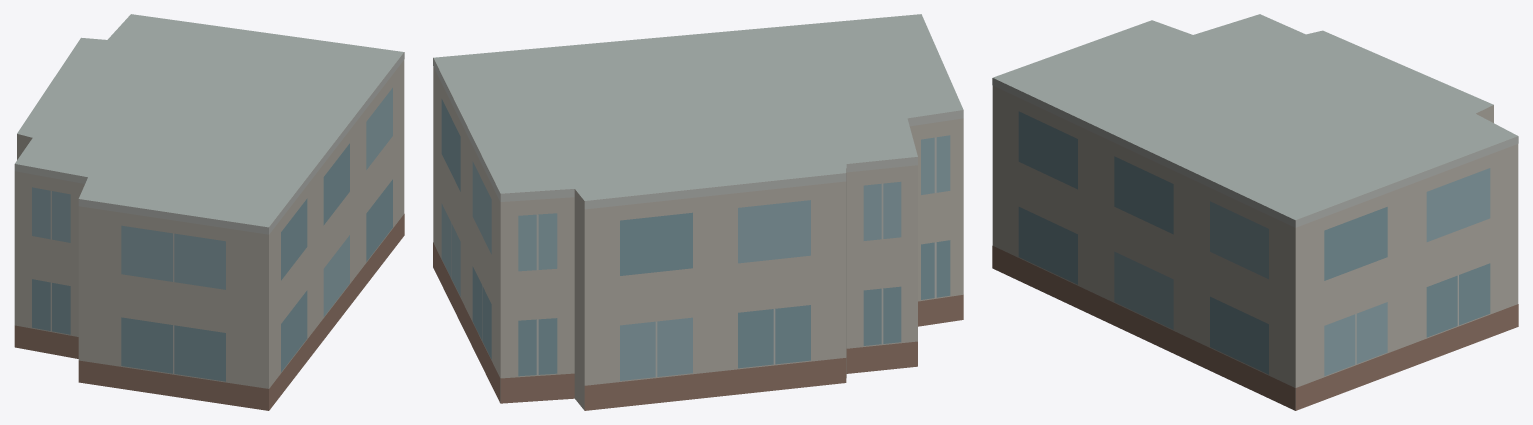
Rendered from survey-upis-32920428.glb.
3 views of the same model, side by side, from view 1: azimuth 30°, elevation 25°; view 2: azimuth 150°, elevation 25°; view 3: azimuth 270°, elevation 25° (orthographic). The views are drawn at different scales.
Visible parts, largest first — view 1: survey-upis-32920428.tmp; view 2: survey-upis-32920428.tmp; view 3: survey-upis-32920428.tmp.
Boxes of the visible parts, left/top/right/bottom form: survey-upis-32920428.tmp: left=14, top=14, right=404, bottom=410; survey-upis-32920428.tmp: left=433, top=14, right=963, bottom=410; survey-upis-32920428.tmp: left=992, top=14, right=1518, bottom=410.
Bounding box in the file's own units: 14.16 × 6.1 × 15.26.
